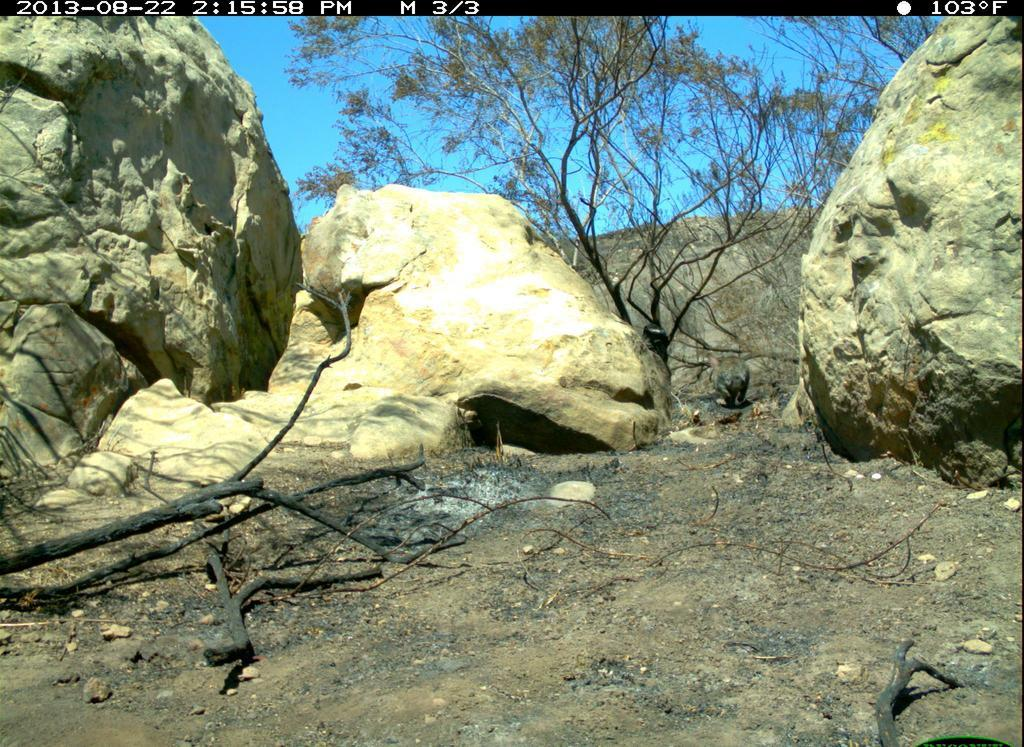rabbit: (699, 350, 759, 415)
